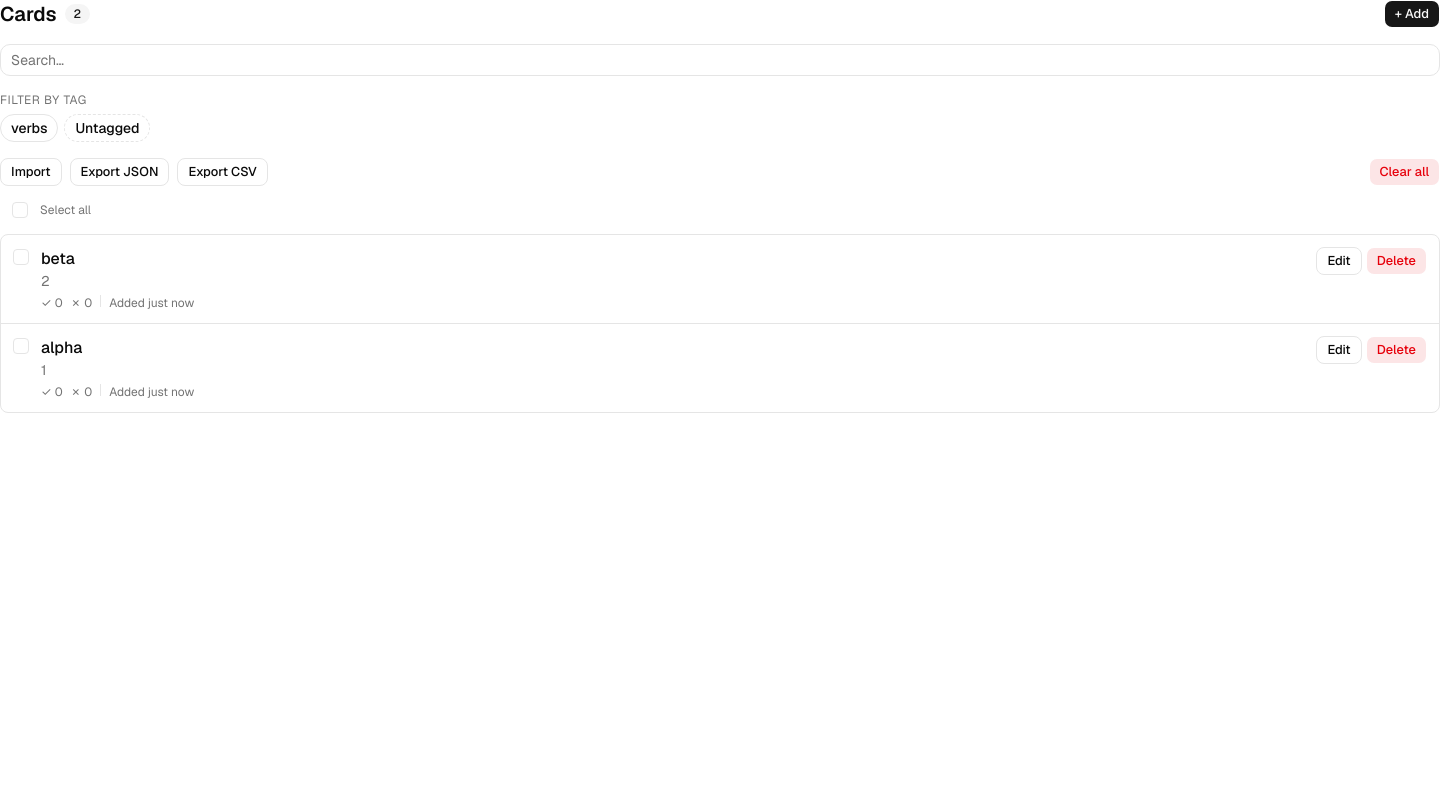
CardsPage bulk tagging › bulk-tagging untagged cards drops them from filter and selection
Step 1. Click the button "Untagged" → x=107, y=128, box [64,114,150,142]
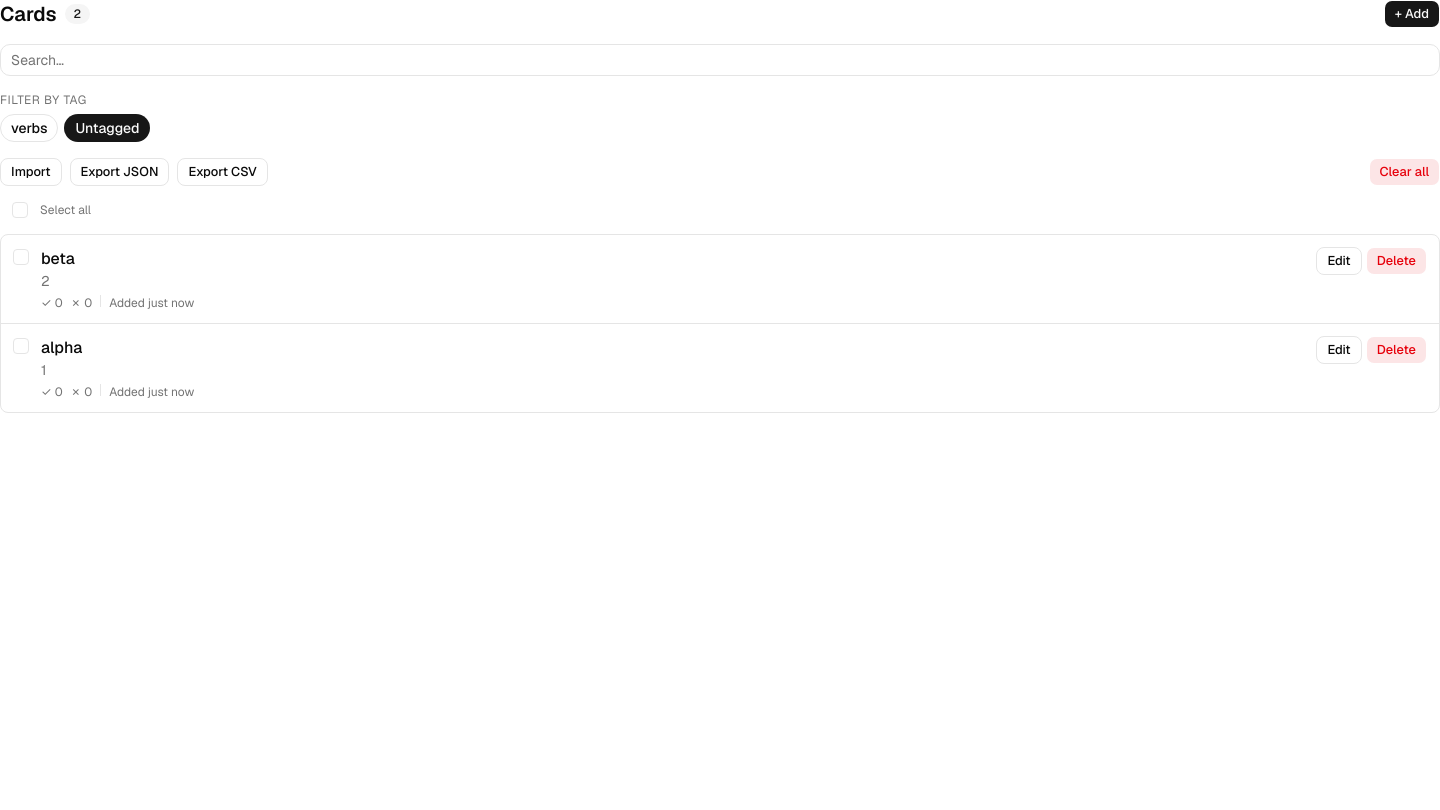
Step 2. Click the checkbox named "select all" → x=20, y=210, box [12,202,28,218]
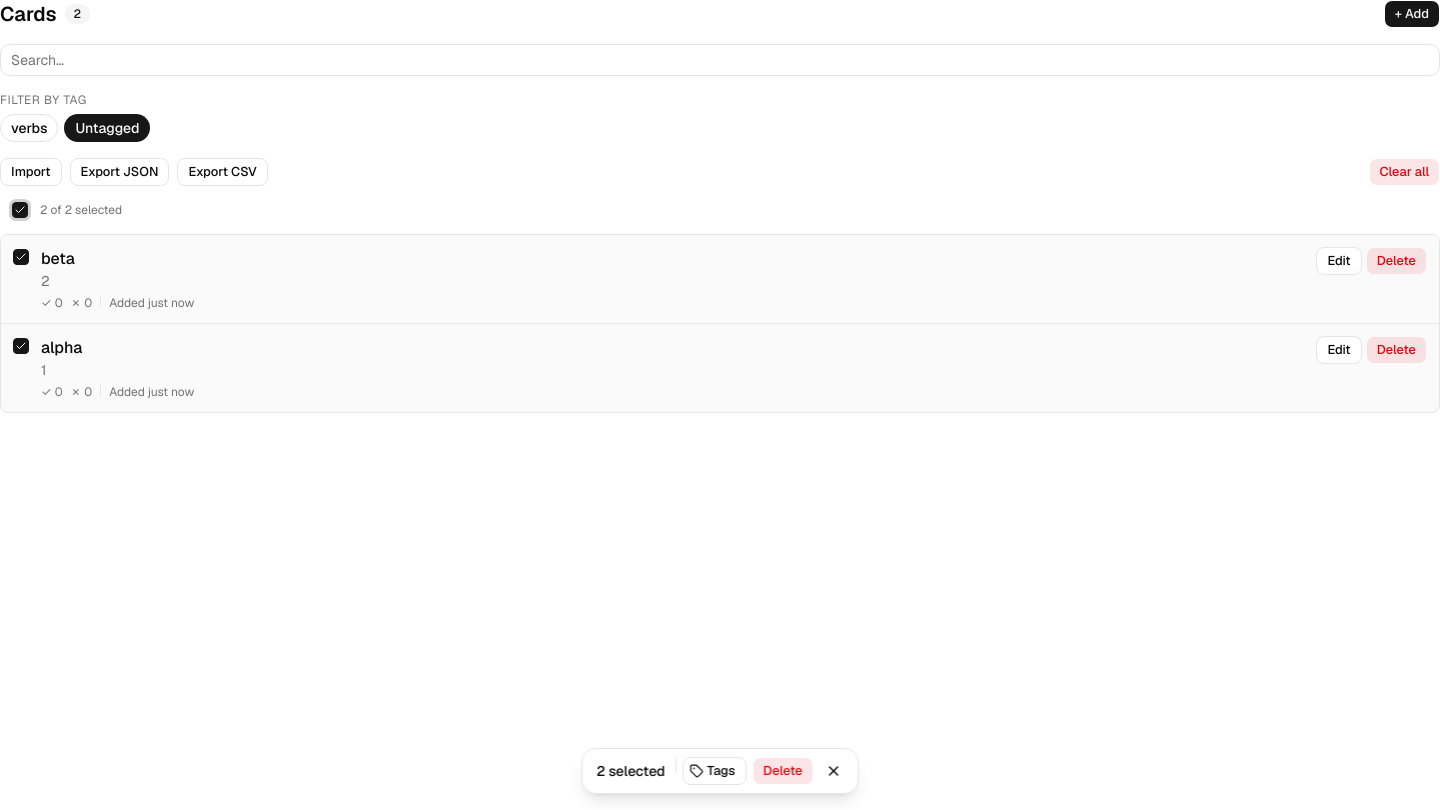
Step 3. Click the button "Tags" → x=714, y=771, box [682,757,746,785]
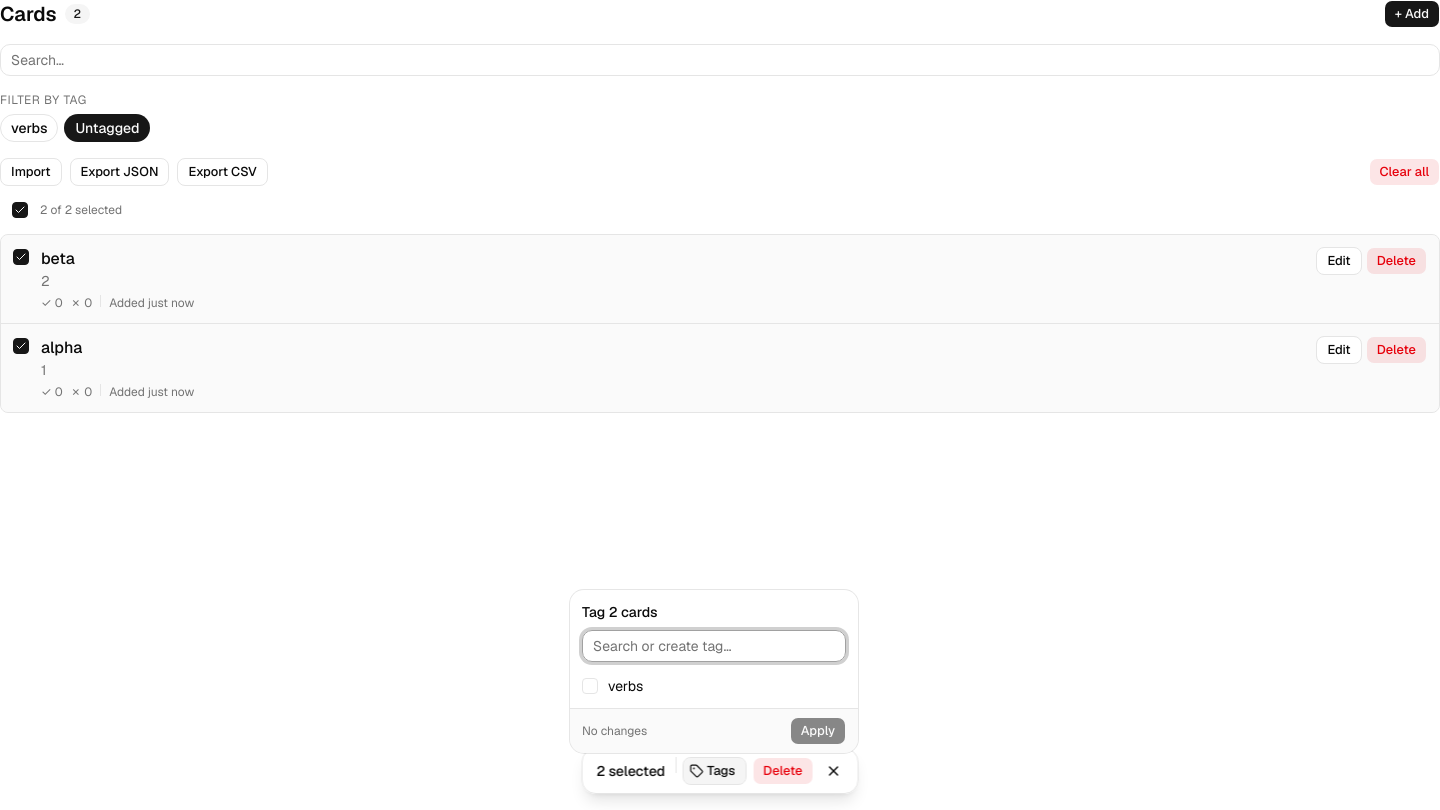
Step 4. Click the checkbox named "tag verbs" → x=590, y=686, box [582,678,598,694]
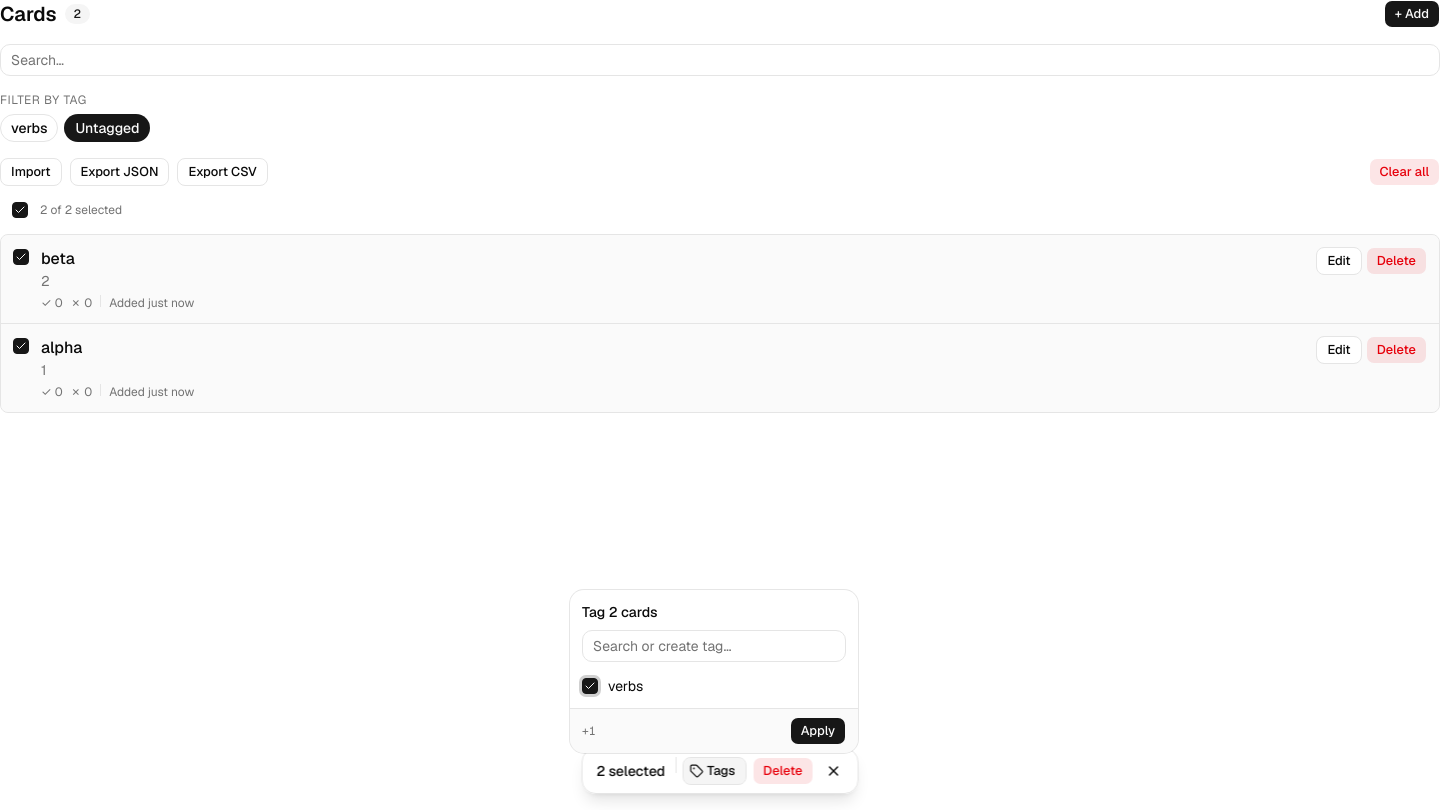
Step 5. Click the button "Apply" → x=818, y=731, box [790,717,846,745]
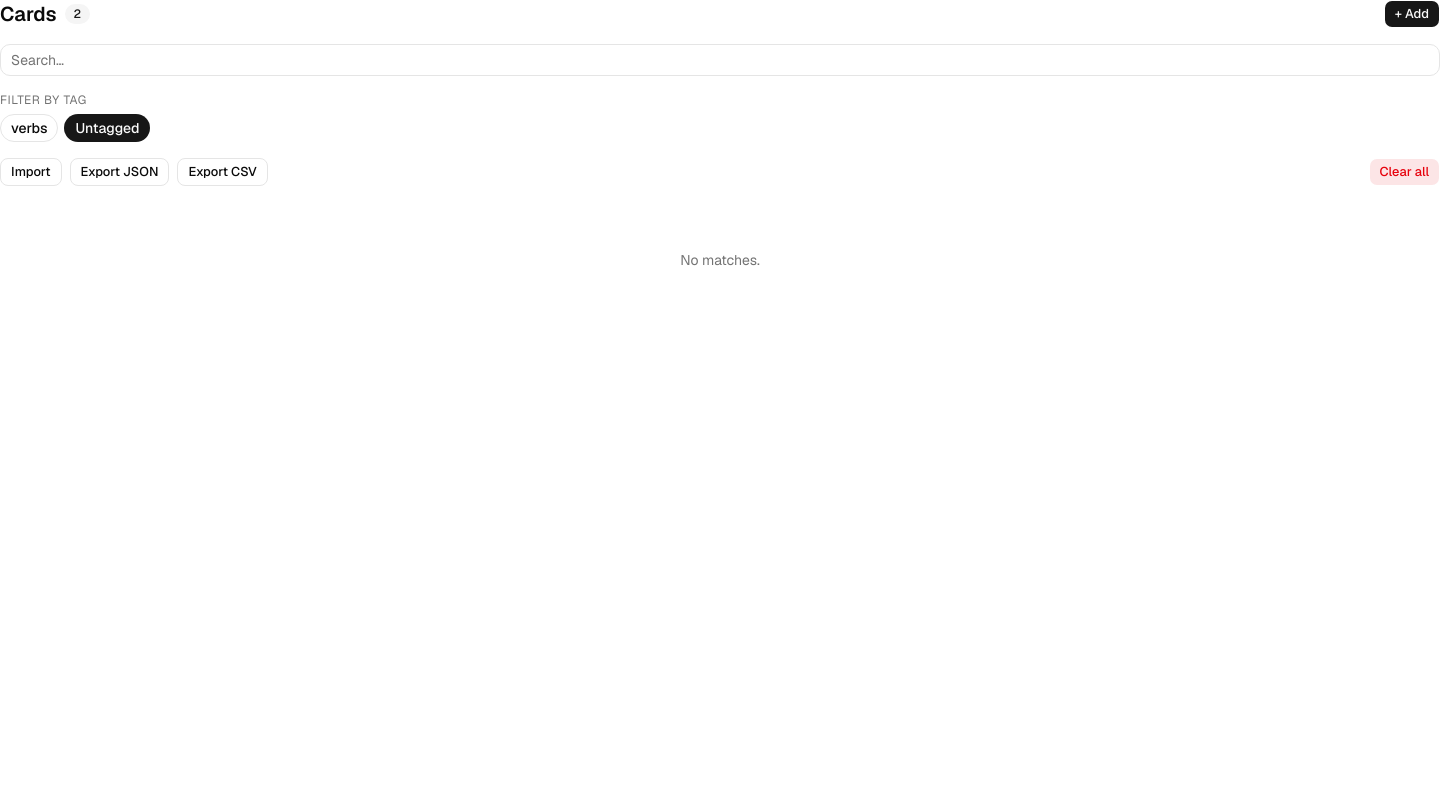
Now the text "2 selected" is gone
Now the text "No matches." is shown, box [680,251,760,269]
